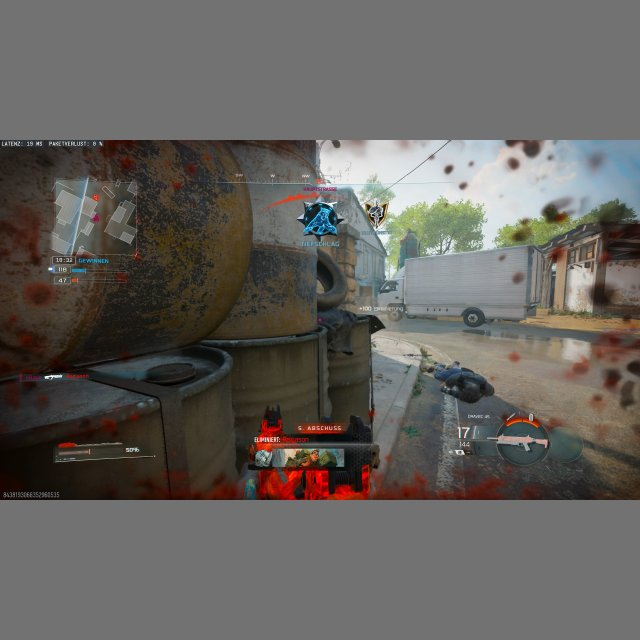player: (299, 200, 340, 239)
